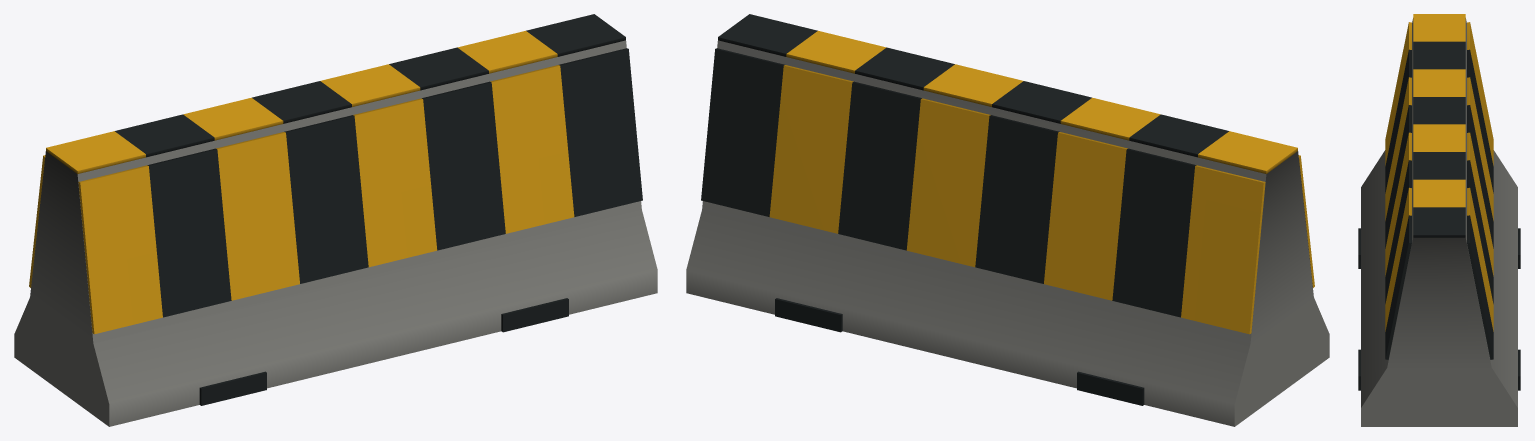
Rendered from jersey_barrier.glb.
3 renders of one model, left to right at view 1: azimuth 30°, elevation 25°; view 2: azimuth 150°, elevation 25°; view 3: azimuth 270°, elevation 25°, orthographic. The views are drawn at different scales.
Parts seen in each view (by area): view 1: JerseyBarrier; view 2: JerseyBarrier; view 3: JerseyBarrier.
Boxes of the visible parts, left/top/right/bottom form: JerseyBarrier: left=14, top=14, right=657, bottom=426; JerseyBarrier: left=686, top=14, right=1329, bottom=426; JerseyBarrier: left=1358, top=14, right=1520, bottom=426.
Size of the model in its own units: 2 by 0.811 by 0.62.
